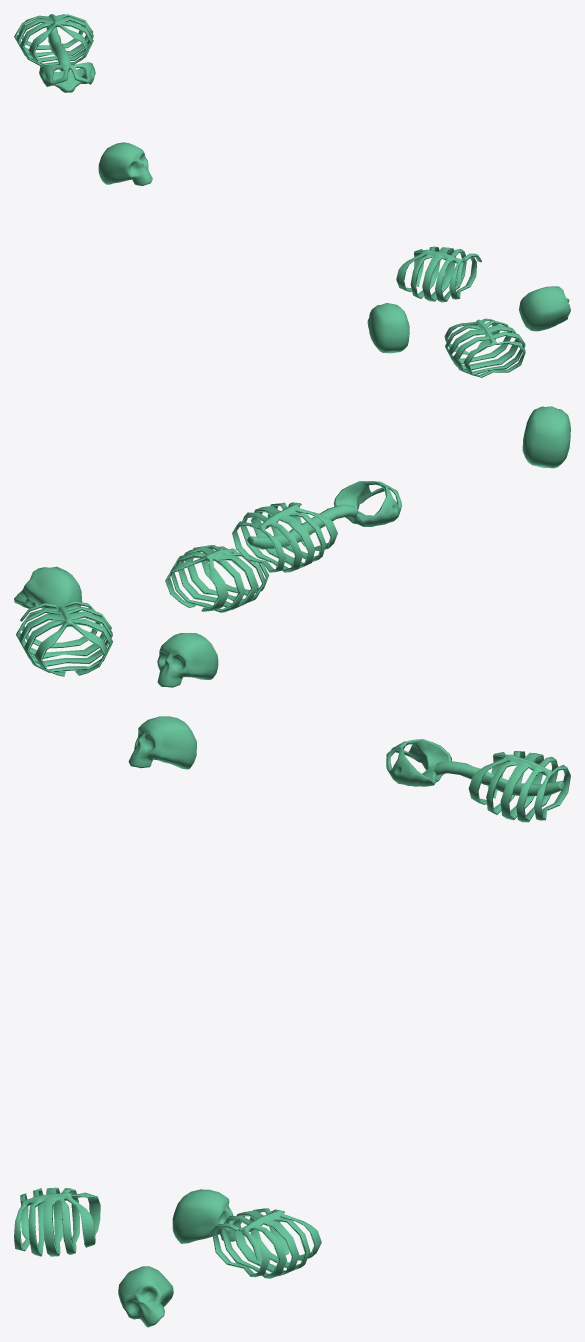
File: Coffin_03B_Lod1.fbx
3 renders of one model, top to bottom at view 1: azimuth 30°, elevation 25°; view 2: azimuth 150°, elevation 25°; view 3: azimuth 270°, elevation 25°, orthographic. The views are drawn at different scales.
Parts seen in each view (by area): view 1: Coffin_03B_Lod1; view 2: Coffin_03B_Lod1; view 3: Coffin_03B_Lod1.
Boxes of the visible parts, bbox=[...] form: Coffin_03B_Lod1: bbox=[14, 14, 570, 377]; Coffin_03B_Lod1: bbox=[14, 406, 570, 687]; Coffin_03B_Lod1: bbox=[14, 716, 570, 1327].
Size of the model in its own units: 185 by 110 by 155.
